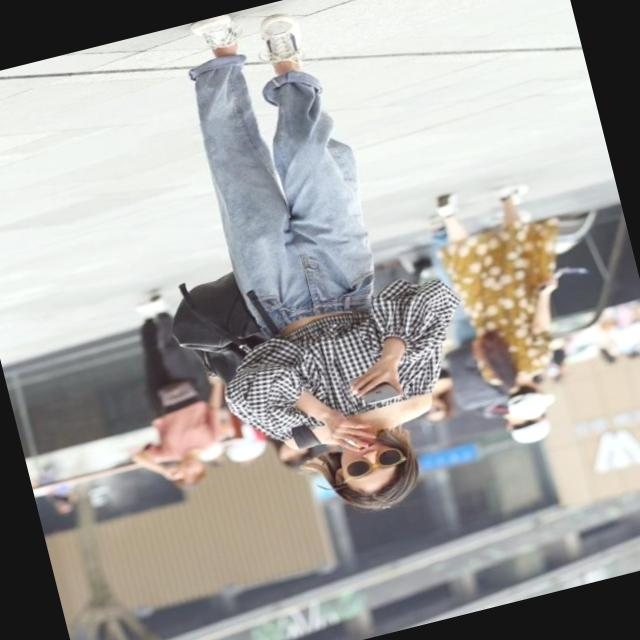smoke: (343, 424, 366, 452)
